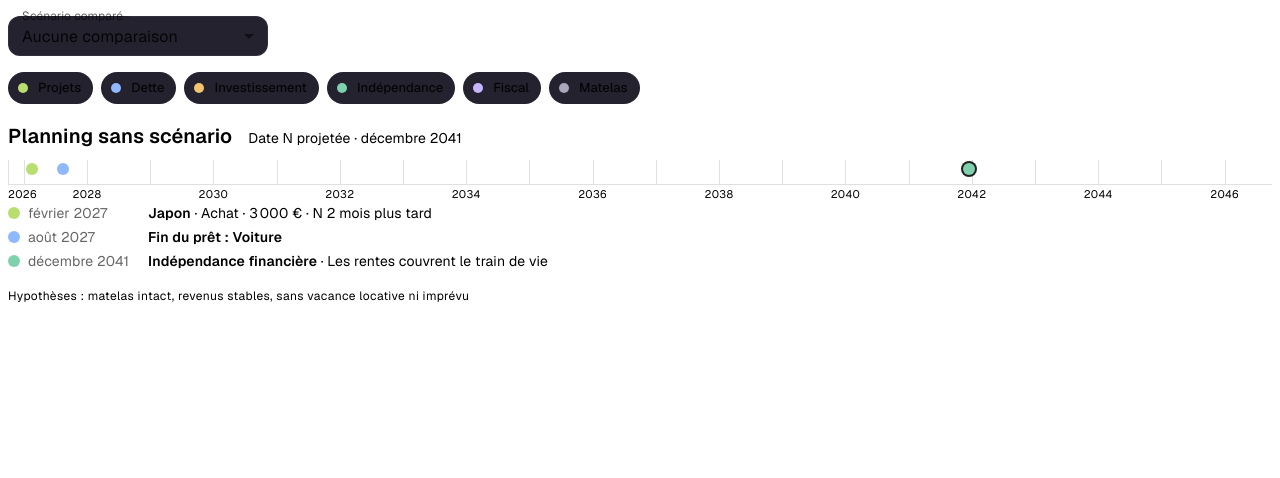
it: TimelinePanel › hides and shows the events of a category, in both rows
This screenshot has width=1280, height=478.
Expected: the element with test id "timeline-row-current" is shown, [8, 120, 1272, 271]
Select "Rapide" in the dropdown labelled "Scénario comparé" at (138, 36), box [8, 16, 268, 56]
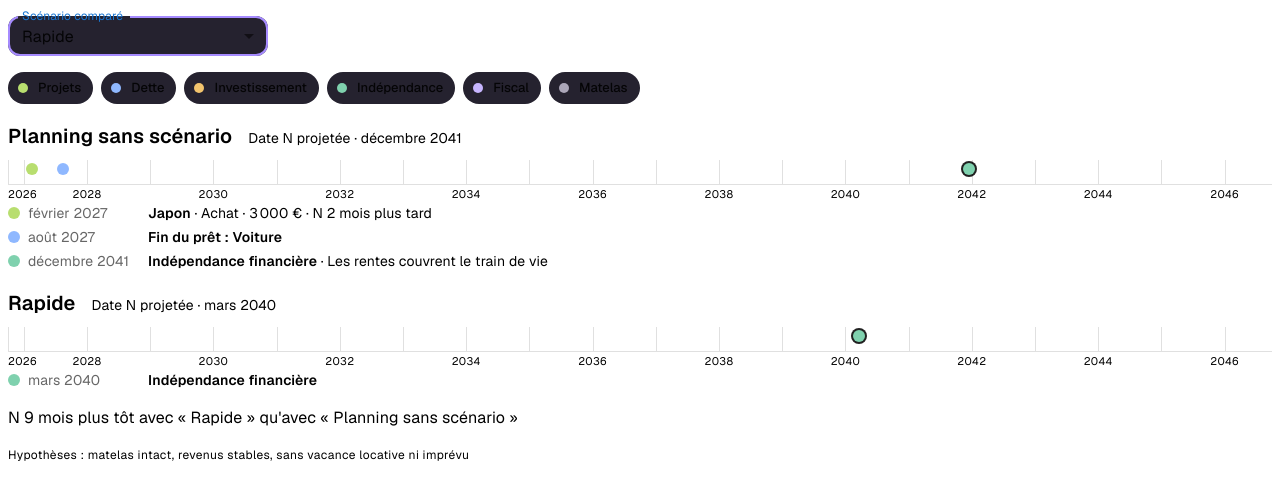
Expected: the element with test id "timeline-row-compared" is shown, [8, 287, 1272, 390]
Click the button "Indépendance".
click(391, 88)  # box [327, 72, 455, 104]
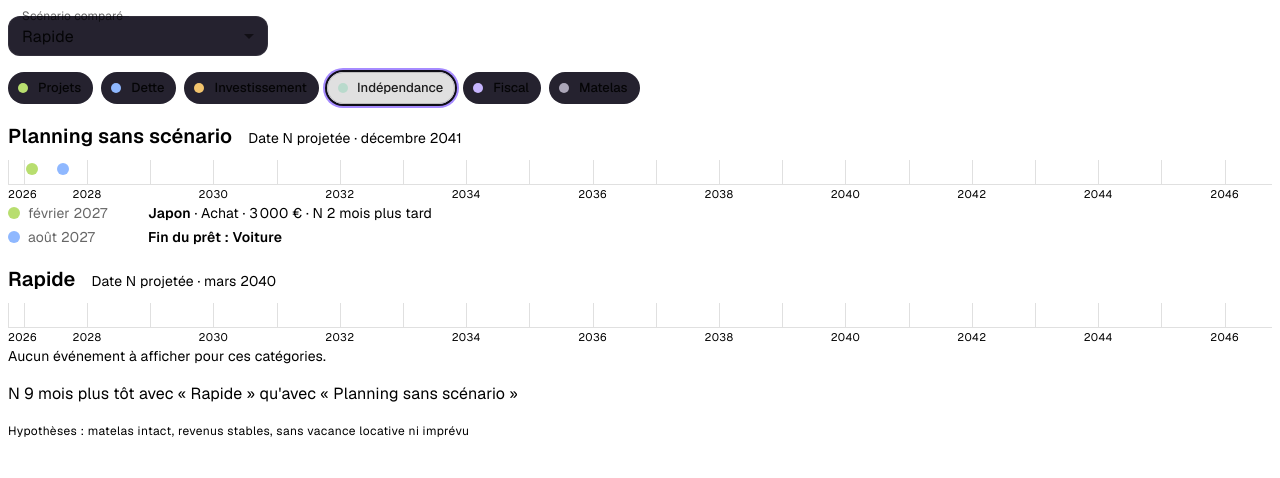
Expected: the list item with test id "timeline-event-independence_reached" is gone
Expected: the list item with test id "timeline-compared-event-independence_reached" is gone
Expected: the element with test id "timeline-marker-independence_reached" is gone
Click the button "Indépendance".
click(391, 88)  # box [327, 72, 455, 104]
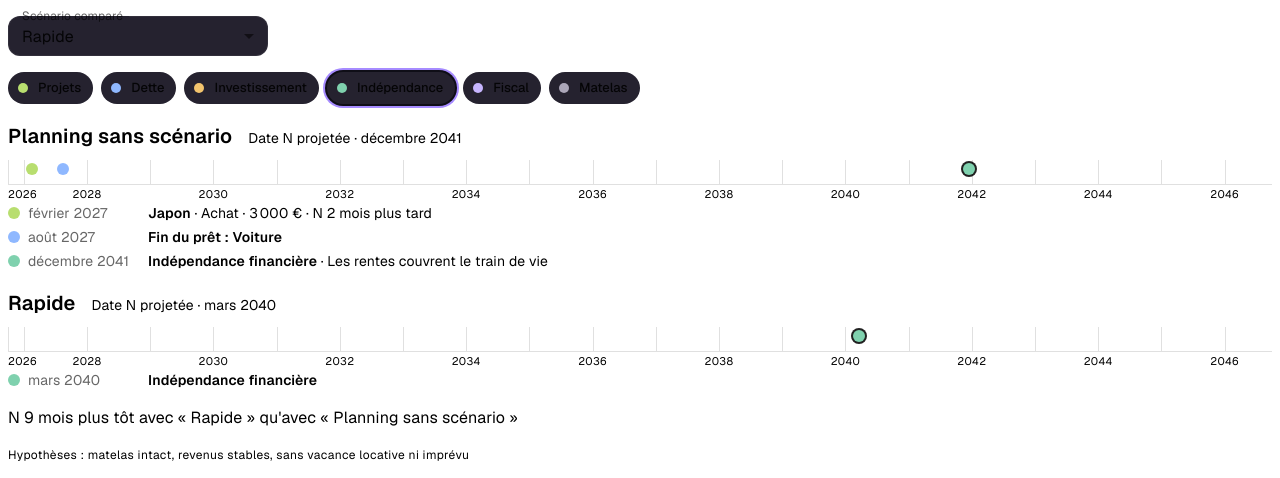
Expected: the list item with test id "timeline-event-independence_reached" is shown, [8, 252, 548, 270]
Expected: the list item with test id "timeline-compared-event-independence_reached" is shown, [8, 371, 317, 389]
